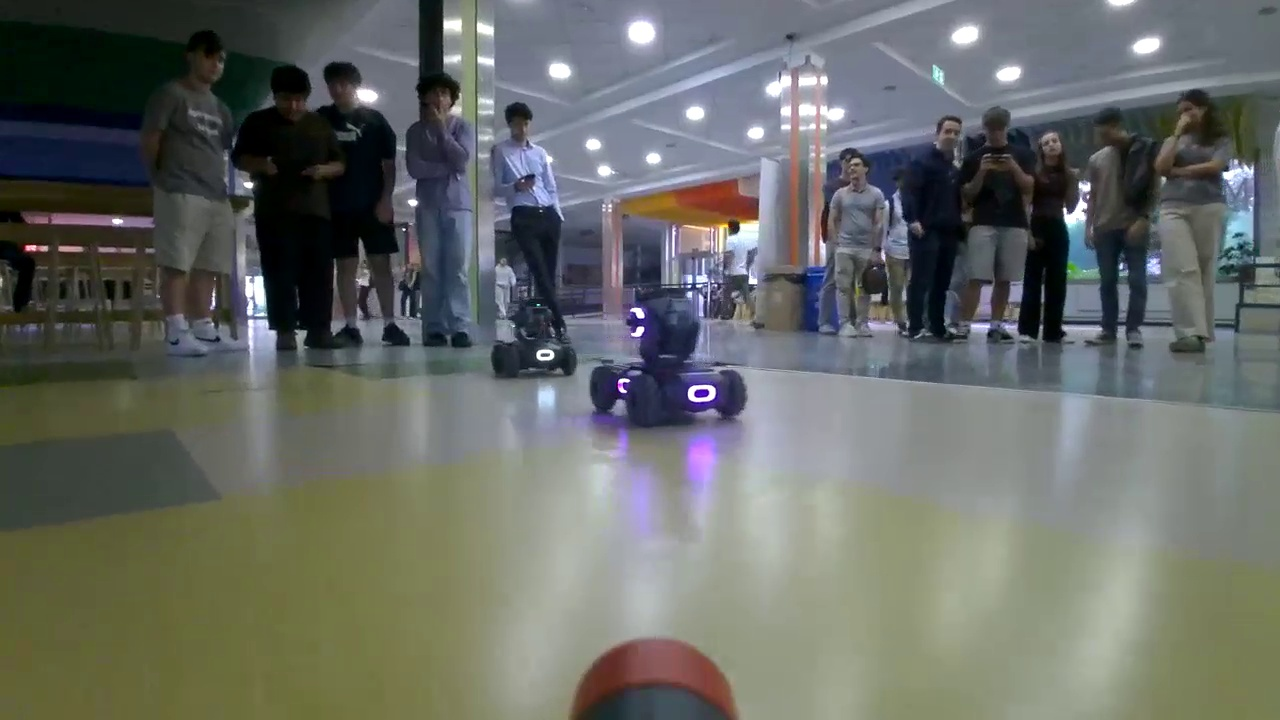robot: (598, 300, 742, 420), (496, 300, 572, 376)
